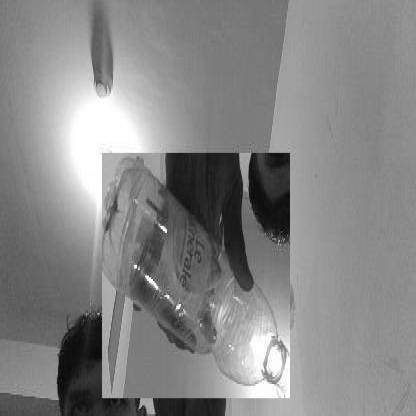plastic_bottles: (102, 152, 290, 398)
